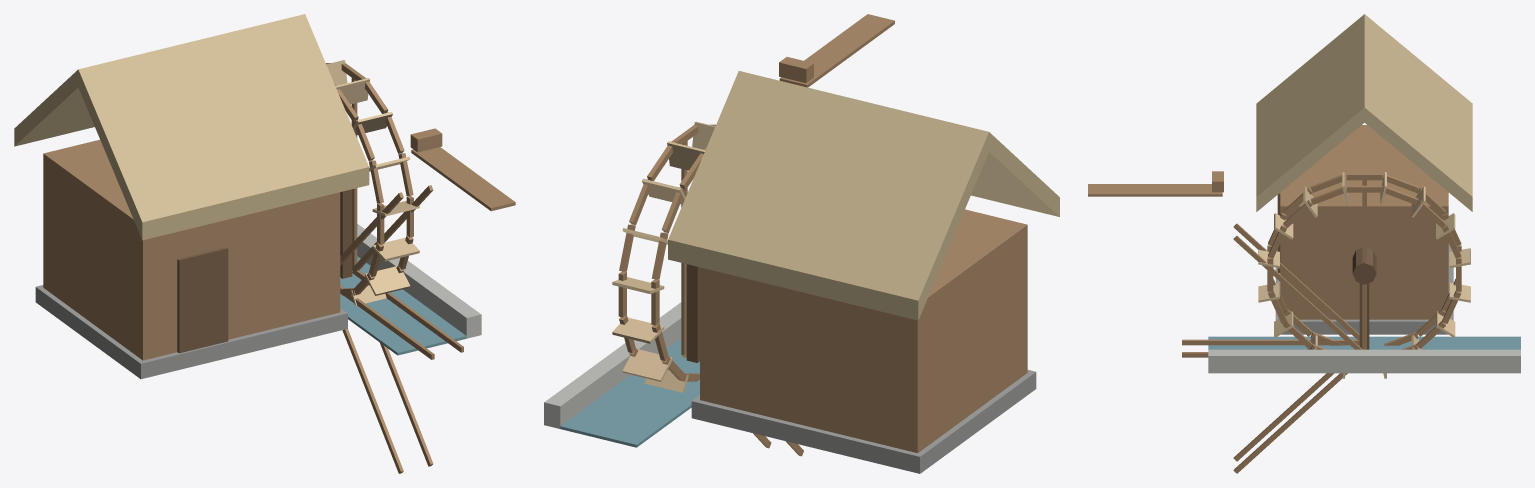
The model's file is suisha.glb.
3 views of the same model, side by side, from view 1: azimuth 30°, elevation 25°; view 2: azimuth 150°, elevation 25°; view 3: azimuth 270°, elevation 25° (orthographic). The views are drawn at different scales.
Parts seen in each view (by area): view 1: suisha_body, suisha_wheel; view 2: suisha_body, suisha_wheel; view 3: suisha_body, suisha_wheel.
Boxes of the visible parts, <box> form: suisha_body: <box>14,14,515,379</box>; suisha_wheel: <box>326,60,463,473</box>; suisha_body: <box>544,14,1059,473</box>; suisha_wheel: <box>612,121,803,456</box>; suisha_body: <box>1088,14,1520,373</box>; suisha_wheel: <box>1182,172,1470,473</box>.
Size of the model in its own units: 6.3 by 7.93 by 9.
